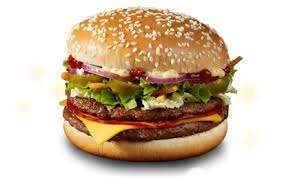hamburger: (58, 4, 241, 162)
